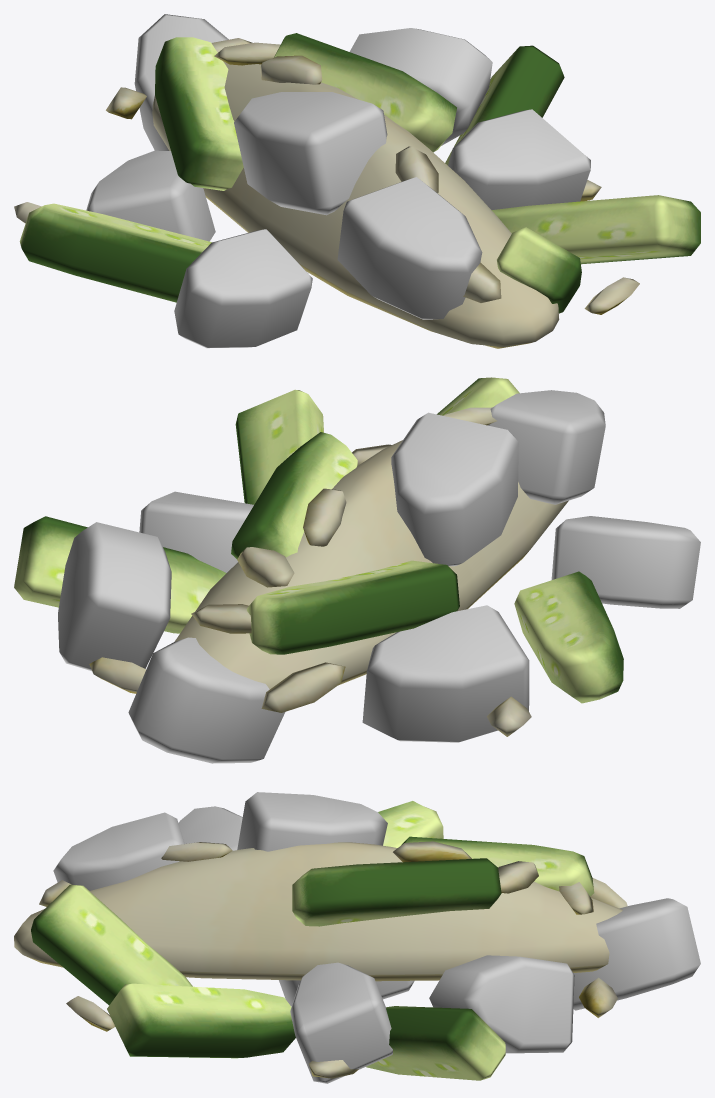
Rendered from Rice_Fish_Cucumber.fbx.
3 views of the same model, one above another, from view 1: azimuth 30°, elevation 25°; view 2: azimuth 150°, elevation 25°; view 3: azimuth 270°, elevation 25° (orthographic). The views are drawn at different scales.
Parts seen in each view (by area): view 1: m_plated_rice_fish_cucumber_01; view 2: m_plated_rice_fish_cucumber_01; view 3: m_plated_rice_fish_cucumber_01.
Part boxes in pixels (<box>): m_plated_rice_fish_cucumber_01: <box>14,14,700,348</box>; m_plated_rice_fish_cucumber_01: <box>14,377,700,763</box>; m_plated_rice_fish_cucumber_01: <box>14,792,700,1083</box>.
Bounding box in the file's own units: 91.38 × 32.58 × 109.
